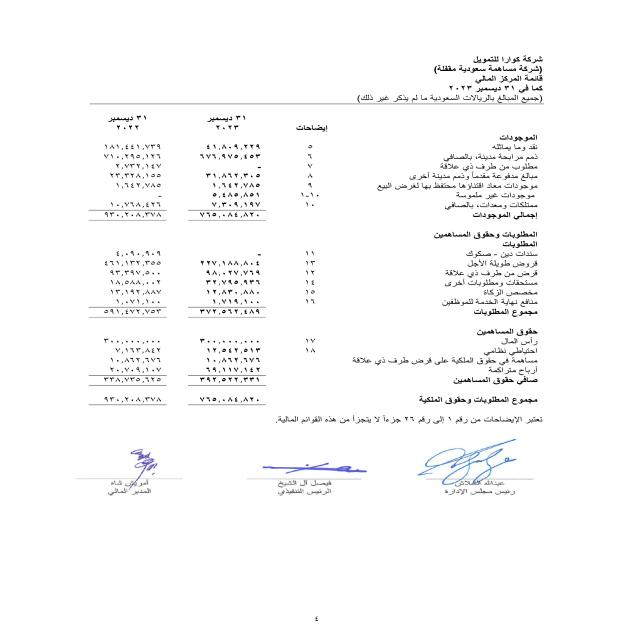financial_sheets: (467, 70, 559, 86)
table: (65, 109, 341, 412)
